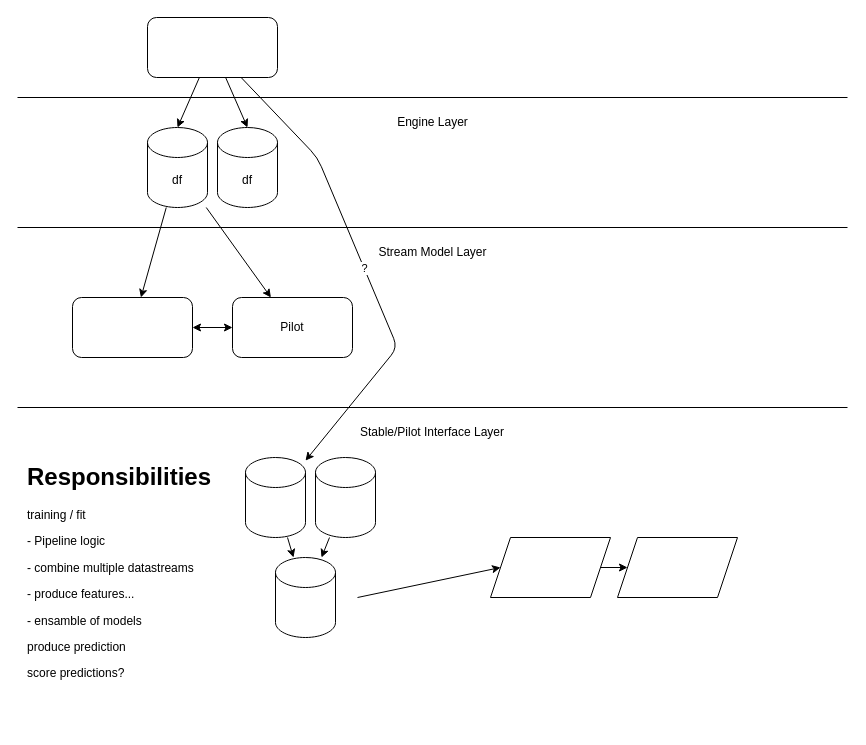
This 866x745 diagram has some shape labels left out. The shapes that lost their labels are listed below. From the top down, each one's centre as x and y in pixels, then its label:
(x=212, y=47): data service
(x=132, y=327): Stable
